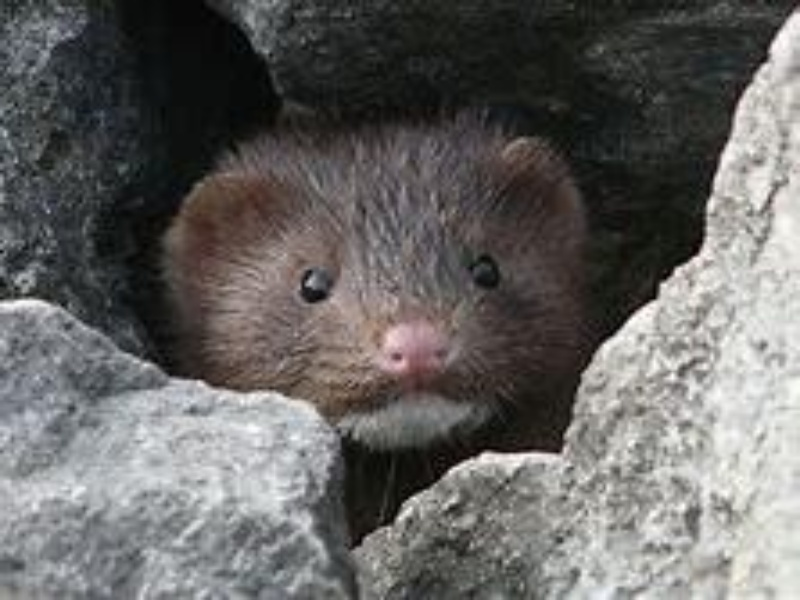minkish: (156, 117, 614, 507)
